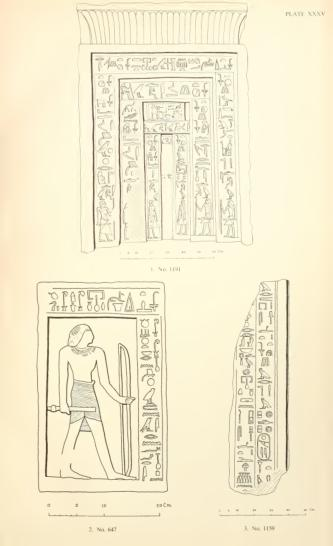circle: (256, 432, 275, 463)
